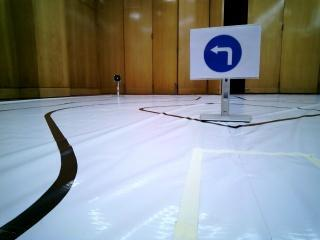left: (197, 23, 260, 75)
